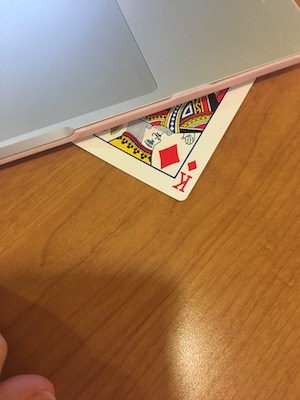KingOfDiamonds: (66, 74, 263, 204)
